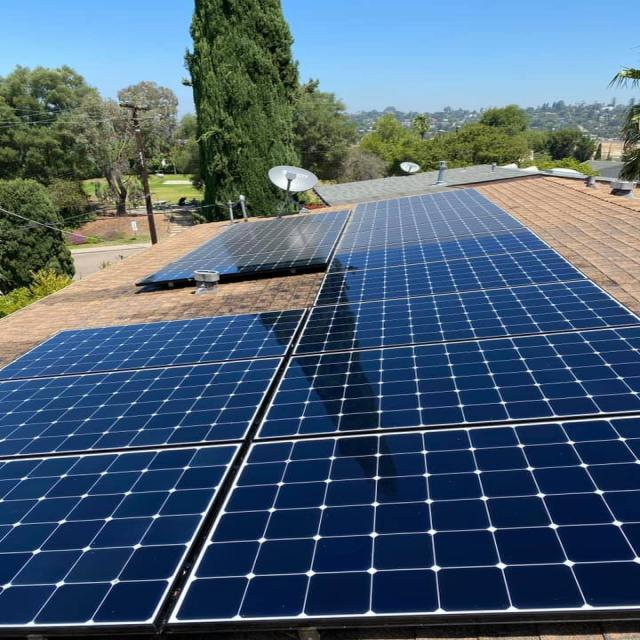clean-solar-panel: (2, 234, 637, 630)
dust-solar-panel: (138, 189, 538, 286)
